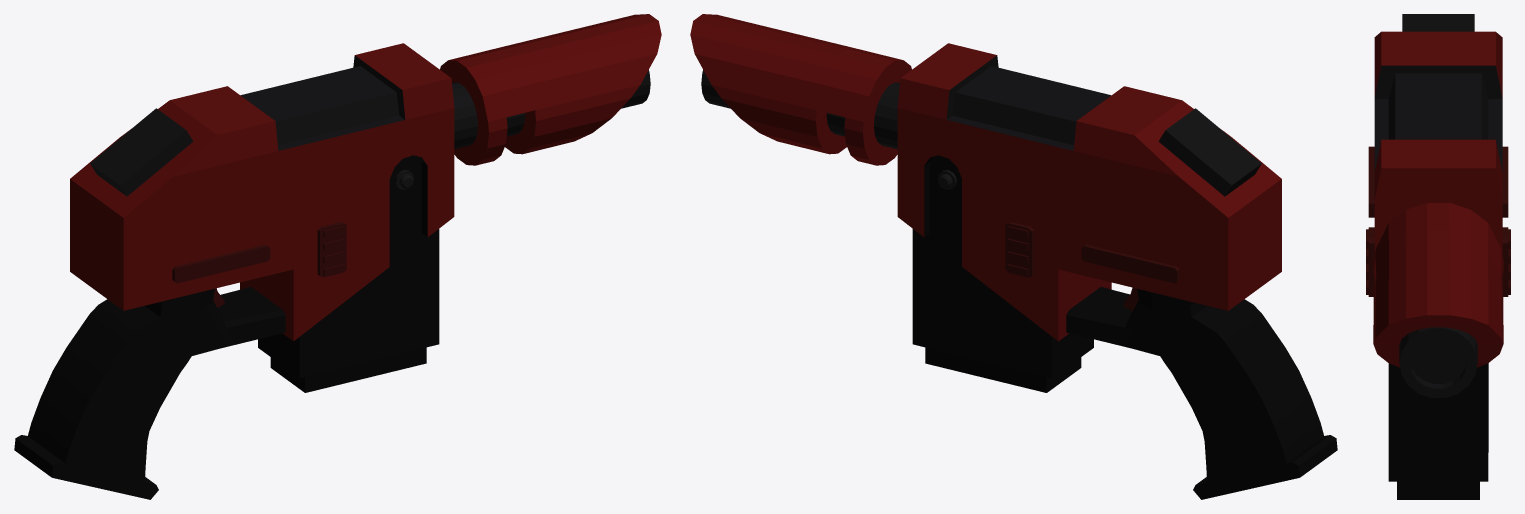
File: Accatran_MG_Variant_Heavy_Laspistol_Red.obj
3 renders of one model, left to right at view 1: azimuth 30°, elevation 25°; view 2: azimuth 150°, elevation 25°; view 3: azimuth 270°, elevation 25°, orthographic. The views are drawn at different scales.
Visible parts, largest first — view 1: Accatran_Pattern_Mk_II_Heavy_Laspistol_Red; view 2: Accatran_Pattern_Mk_II_Heavy_Laspistol_Red; view 3: Accatran_Pattern_Mk_II_Heavy_Laspistol_Red.
Part boxes in pixels (bbox=[...]): Accatran_Pattern_Mk_II_Heavy_Laspistol_Red: bbox=[14, 14, 661, 499]; Accatran_Pattern_Mk_II_Heavy_Laspistol_Red: bbox=[690, 14, 1337, 499]; Accatran_Pattern_Mk_II_Heavy_Laspistol_Red: bbox=[1366, 14, 1510, 499].
Size of the model in its own units: 1.16 by 0.6378 by 0.1958.
